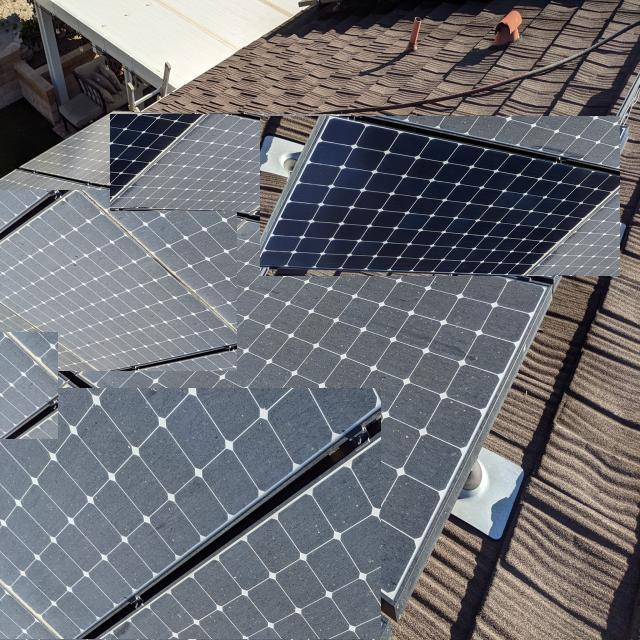Dusty: (83, 225, 538, 591), (0, 388, 381, 640), (0, 190, 237, 371), (110, 114, 351, 211), (0, 332, 58, 439)
